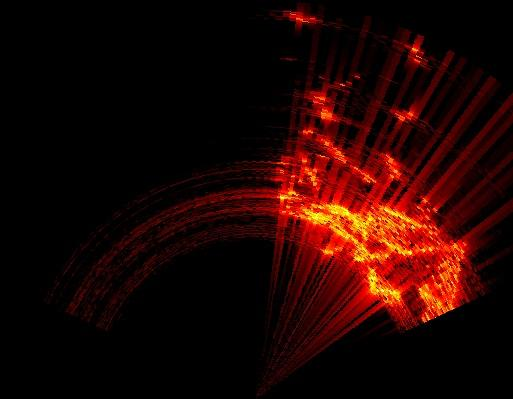shipwreck: (287, 204, 434, 265), (414, 242, 461, 321), (368, 266, 405, 304), (280, 192, 295, 200)
